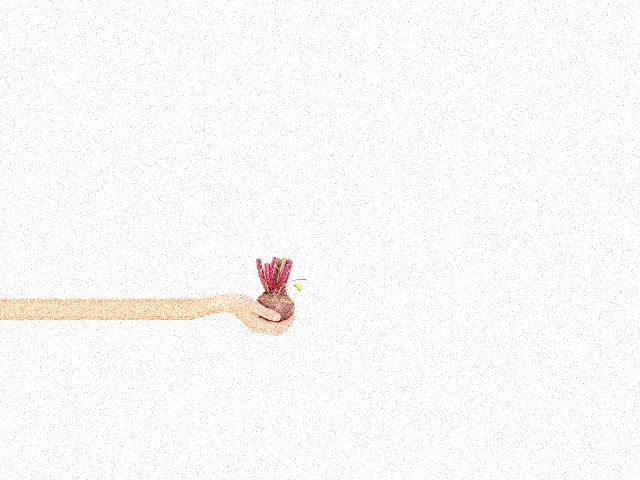beet: (256, 257, 307, 322)
